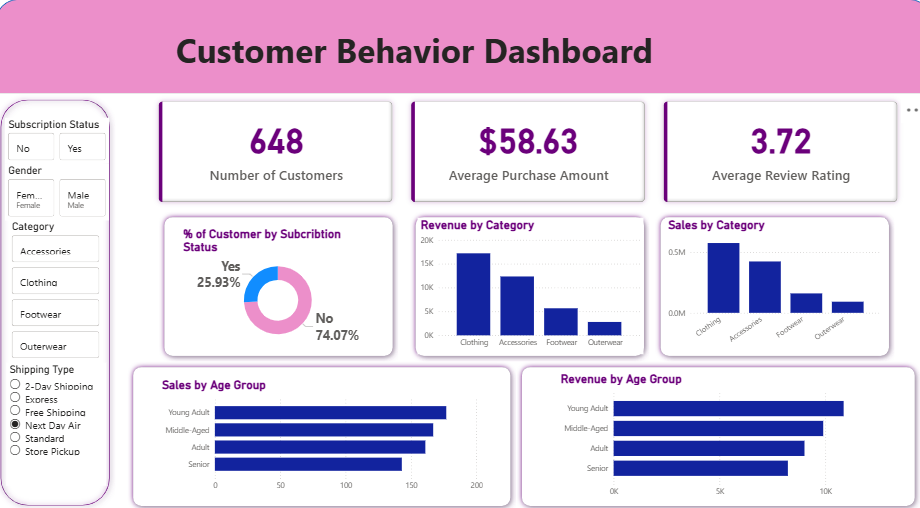

The dashboard page shown, as its layout file describes it:
{"tool":"powerbi","page":{"name":"Page 1","canvas":[1500,820],"ordinal":0},"visuals":[{"type":"cardVisual","fields":{"Data":["public customer.Number of Customers","public customer.Average Purchase Amount","public customer.Average Review Rating"]},"box":[246.7,148.3,1215,193.3],"z":0},{"type":"shape","box":[0,0,1500,151.7],"z":1000},{"type":"textbox","box":[191.4,40,958.6,222.9],"z":2000},{"type":"shape","box":[261.7,340,383.3,240],"z":3000},{"type":"donutChart","title":"% of Customer by Subcribtion Status","fields":{"Category":["public customer.subscription_status"],"Y":["CountNonNull(public customer.customer_id)"]},"box":[296.7,363.3,313.3,193.3],"z":4000},{"type":"shape","box":[663.3,340,383.3,240],"z":5000},{"type":"shape","box":[1056.7,340,383.3,240],"z":6000},{"type":"clusteredColumnChart","title":"Revenue by Category","fields":{"Y":["Sum(public customer.purchase_amount)"],"Category":["public customer.category"]},"box":[675,350,361.7,218.3],"z":7000},{"type":"clusteredColumnChart","title":"Sales by Category","fields":{"Y":["Sum(public customer.customer_id)"],"Category":["public customer.category"]},"box":[1071.7,350,351.7,218.3],"z":8000},{"type":"shape","box":[0,152.5,192.5,667.5],"z":9000},{"type":"advancedSlicerVisual","title":"Subscription Status","fields":{"Values":["public customer.subscription_status"]},"box":[15,190,166.7,73.3],"z":10000},{"type":"advancedSlicerVisual","title":"Gender","fields":{"Values":["public customer.gender"],"Label":["Min(public customer.gender)"]},"box":[15,263.3,166.7,90],"z":11000},{"type":"advancedSlicerVisual","title":"Category","fields":{"Values":["public customer.category"]},"box":[21.7,353.3,150,228.3],"z":12000},{"type":"shape","box":[833.3,580,646.7,240],"z":12500},{"type":"listSlicer","title":"Shipping Type","fields":{"Values":["public customer.shipping_type"]},"box":[18.3,581.7,160,196.7],"z":13000},{"type":"shape","box":[211.7,580,621.7,240],"z":13500},{"type":"clusteredBarChart","title":"Revenue by Age Group","fields":{"Y":["Sum(public customer.purchase_amount)"],"Category":["public customer.age_group"]},"box":[900,595,511.7,210],"z":14000},{"type":"clusteredBarChart","title":"Sales by Age Group","fields":{"Y":["CountNonNull(public customer.customer_id)"],"Category":["public customer.age_group"]},"box":[261.7,605,523.3,190],"z":17000}]}

Visuals, with their boxes in screenshot pixels (x1, y1, x2, y2), scaled from the page's 1500x820 canvas onto the 920x508 screenshot:
cardVisual - public customer.Number of Customers x public customer.Average Purchase Amount: 151:92:897:212
shape: 0:0:919:94
textbox: 117:25:705:163
shape: 161:211:396:359
"% of Customer by Subcribtion Status" donutChart: 182:225:374:345
shape: 407:211:642:359
shape: 648:211:883:359
"Revenue by Category" clusteredColumnChart: 414:217:636:352
"Sales by Category" clusteredColumnChart: 657:217:873:352
shape: 0:94:118:507
"Subscription Status" advancedSlicerVisual: 9:118:111:163
"Gender" advancedSlicerVisual: 9:163:111:219
"Category" advancedSlicerVisual: 13:219:105:360
shape: 511:359:908:507
"Shipping Type" listSlicer: 11:360:109:482
shape: 130:359:511:507
"Revenue by Age Group" clusteredBarChart: 552:369:866:499
"Sales by Age Group" clusteredBarChart: 161:375:481:493
